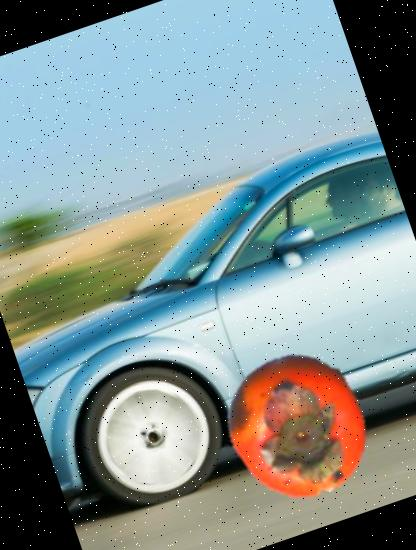Kaki: (205, 330, 394, 520)
